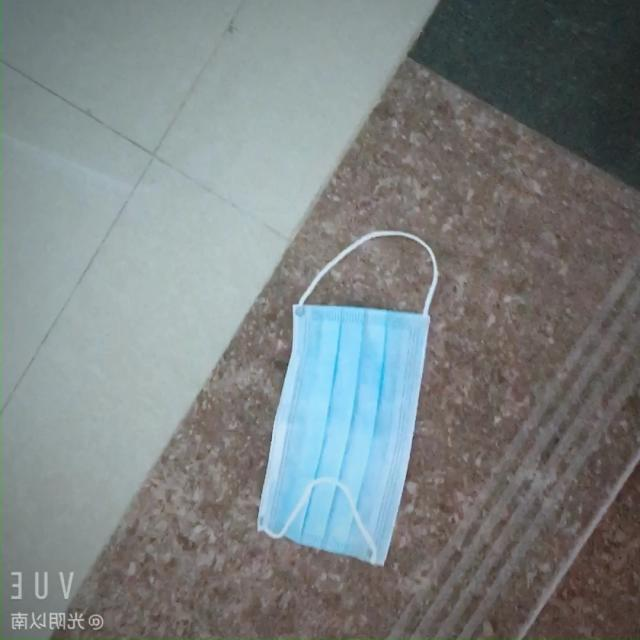face mask: (256, 292, 432, 566)
